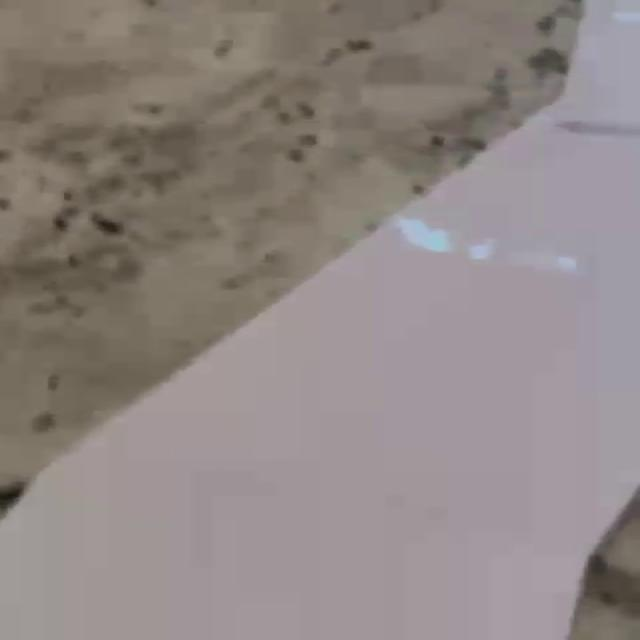road: (0, 0, 640, 640)
